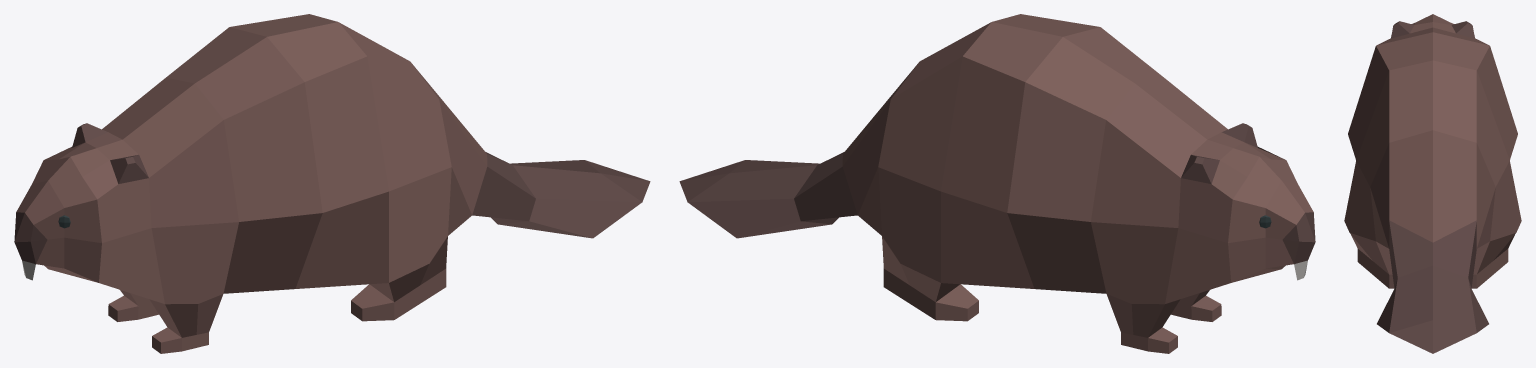
The model's file is Beaver.fbx.
3 renders of one model, left to right at view 1: azimuth 30°, elevation 25°; view 2: azimuth 150°, elevation 25°; view 3: azimuth 270°, elevation 25°, orthographic. The views are drawn at different scales.
Visible parts, largest first — view 1: Bevertje; view 2: Bevertje; view 3: Bevertje.
Part boxes in pixels (box(x1,y1,x2,y2)): Bevertje: box(14, 14, 650, 353); Bevertje: box(679, 14, 1315, 353); Bevertje: box(1344, 14, 1521, 353).
Bounding box in the file's own units: 5.01 × 2 × 1.6.
